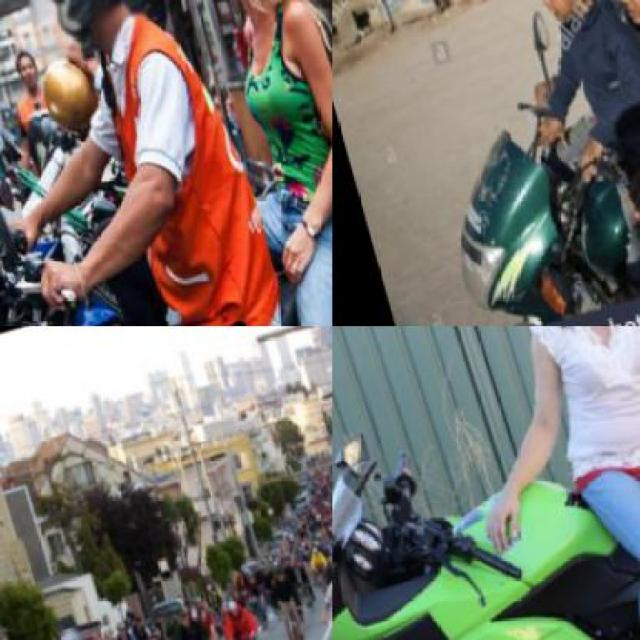With Helmet: (0, 0, 157, 75), (56, 626, 86, 639)
Without Helmet: (326, 559, 331, 586)
